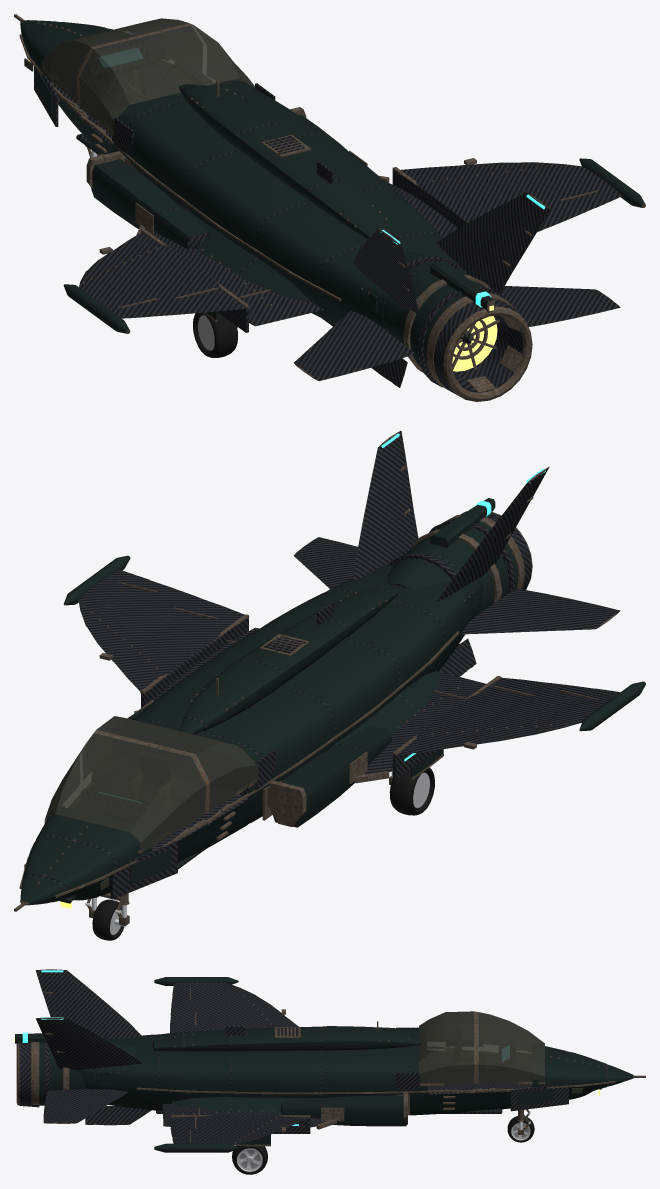
The picture shows the model from 3 angles, top to bottom: view 1: azimuth 30°, elevation 25°; view 2: azimuth 150°, elevation 25°; view 3: azimuth 270°, elevation 25°; orthographic projection. The views are drawn at different scales.
Visible parts, largest first — view 1: kb3_core, kb3_wing_r, kb3_wing_l, kb3_tail_r, kb3_tail_l, kb3_gear_down; view 2: kb3_core, kb3_wing_r, kb3_wing_l, kb3_tail_r, kb3_tail_l, kb3_gear_down; view 3: kb3_core, kb3_tail_r, kb3_wing_l, kb3_wing_r, kb3_tail_l, kb3_gear_down.
Part boxes in pixels (box(x1,y1,x2,y2)): kb3_core: box(14, 14, 532, 401); kb3_wing_r: box(392, 158, 645, 232); kb3_wing_l: box(63, 228, 248, 333); kb3_tail_r: box(437, 192, 620, 326); kb3_tail_l: box(294, 229, 420, 380); kb3_gear_down: box(85, 145, 237, 357); kb3_core: box(14, 498, 532, 911); kb3_wing_r: box(63, 555, 249, 707); kb3_wing_l: box(392, 676, 645, 780); kb3_tail_r: box(293, 431, 418, 589); kb3_tail_l: box(437, 466, 620, 634); kb3_gear_down: box(85, 749, 443, 940); kb3_core: box(14, 1011, 645, 1129); kb3_tail_r: box(36, 1017, 142, 1123); kb3_wing_l: box(154, 977, 298, 1033); kb3_wing_r: box(154, 1115, 310, 1152); kb3_tail_l: box(35, 969, 142, 1039); kb3_gear_down: box(232, 1109, 534, 1174).
Size of the model in its own units: 5.36 by 2.17 by 8.4.
Materials: 14 (7 with a texture image).
